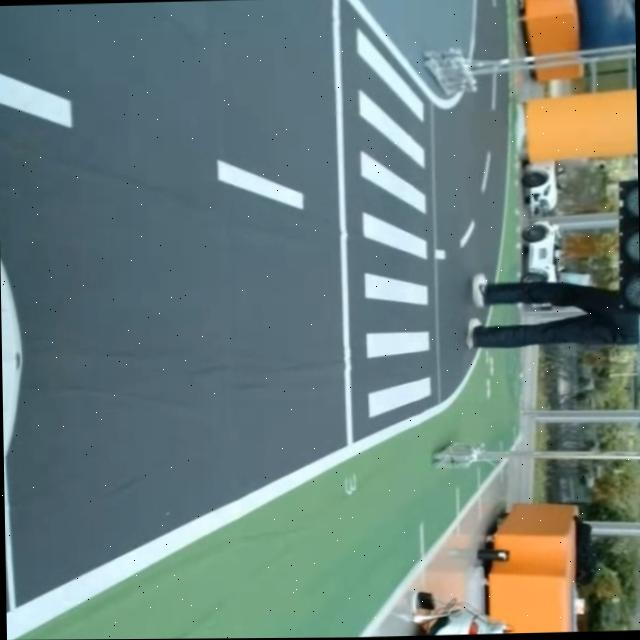traffic-light: (623, 178, 640, 313)
